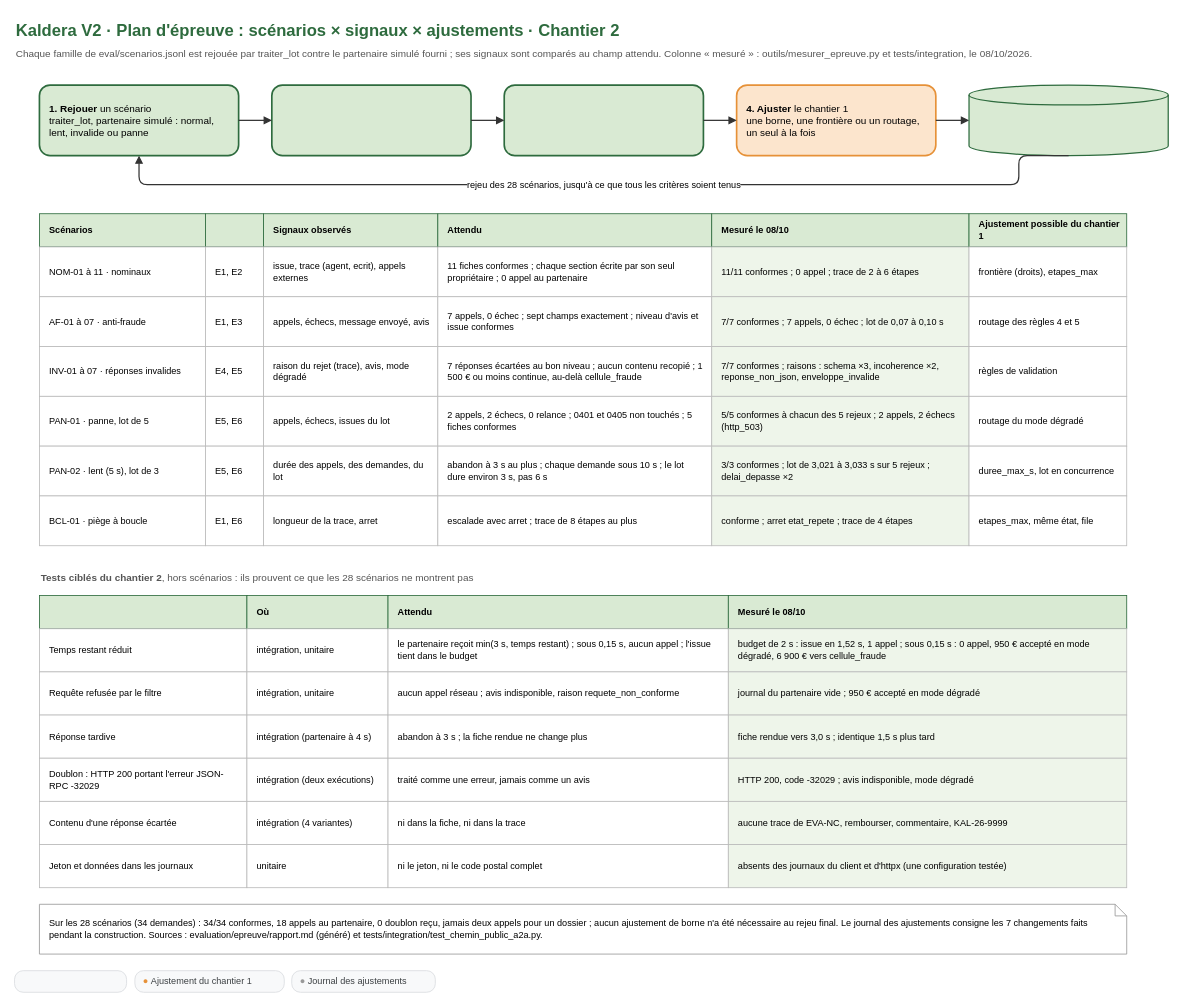
Some shapes in this 1184 by 1007 pixel diagram are drawn without their labels. Here are the shapes that lost their labels. From the top down, the box of each, then its label:
(271, 84, 471, 156): 2. Observer les signaux issue, trace (avec la raison d'un échec), appels, durées
(503, 84, 704, 156): 3. Comparer au champ attendu et aux critères du tableau
(968, 84, 1168, 156): 5. Consigner au journal scénario, signal, avant, après, rejeu, commit
(205, 213, 264, 247): Exigences
(39, 595, 247, 629): Test
(14, 970, 127, 992): ● Étape de contrôle
